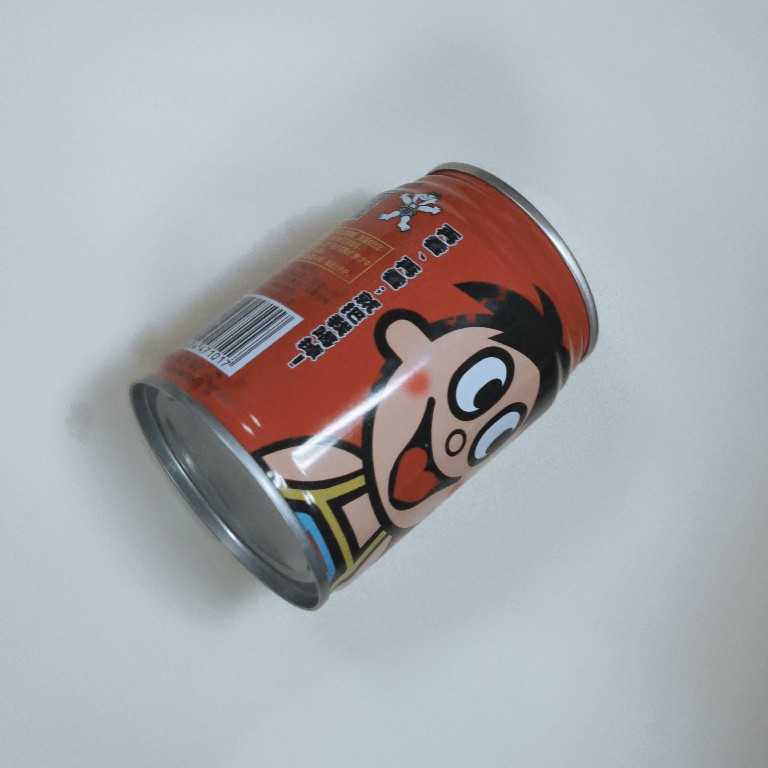can: (127, 160, 601, 614)
